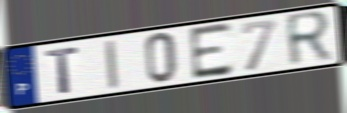0: (143, 30, 182, 85)
7: (239, 17, 280, 73)
E: (187, 20, 236, 83)
I: (103, 38, 120, 91)
R: (283, 9, 335, 70)
T: (44, 45, 82, 96)
